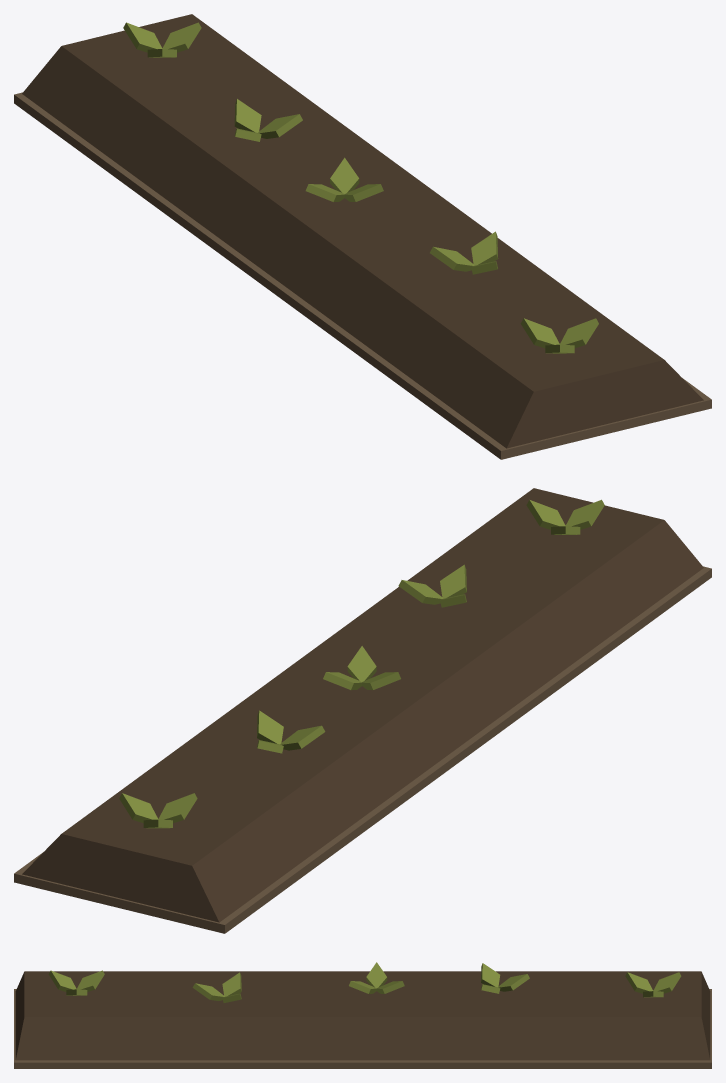
File: crop_potato_s1.glb
The picture shows the model from 3 angles, top to bottom: view 1: azimuth 30°, elevation 25°; view 2: azimuth 150°, elevation 25°; view 3: azimuth 270°, elevation 25°; orthographic projection. The views are drawn at different scales.
Visible parts, largest first — view 1: crop_potato_s1_mesh; view 2: crop_potato_s1_mesh; view 3: crop_potato_s1_mesh.
Boxes of the visible parts, left/top/right/bottom form: crop_potato_s1_mesh: left=14, top=14, right=711, bottom=459; crop_potato_s1_mesh: left=14, top=488, right=711, bottom=933; crop_potato_s1_mesh: left=14, top=962, right=711, bottom=1068.
Size of the model in its own units: 0.5 by 0.1719 by 2.
